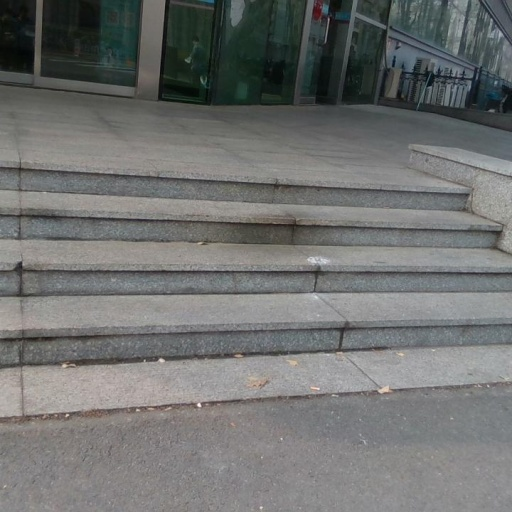Stairs: (0, 167, 512, 367)
